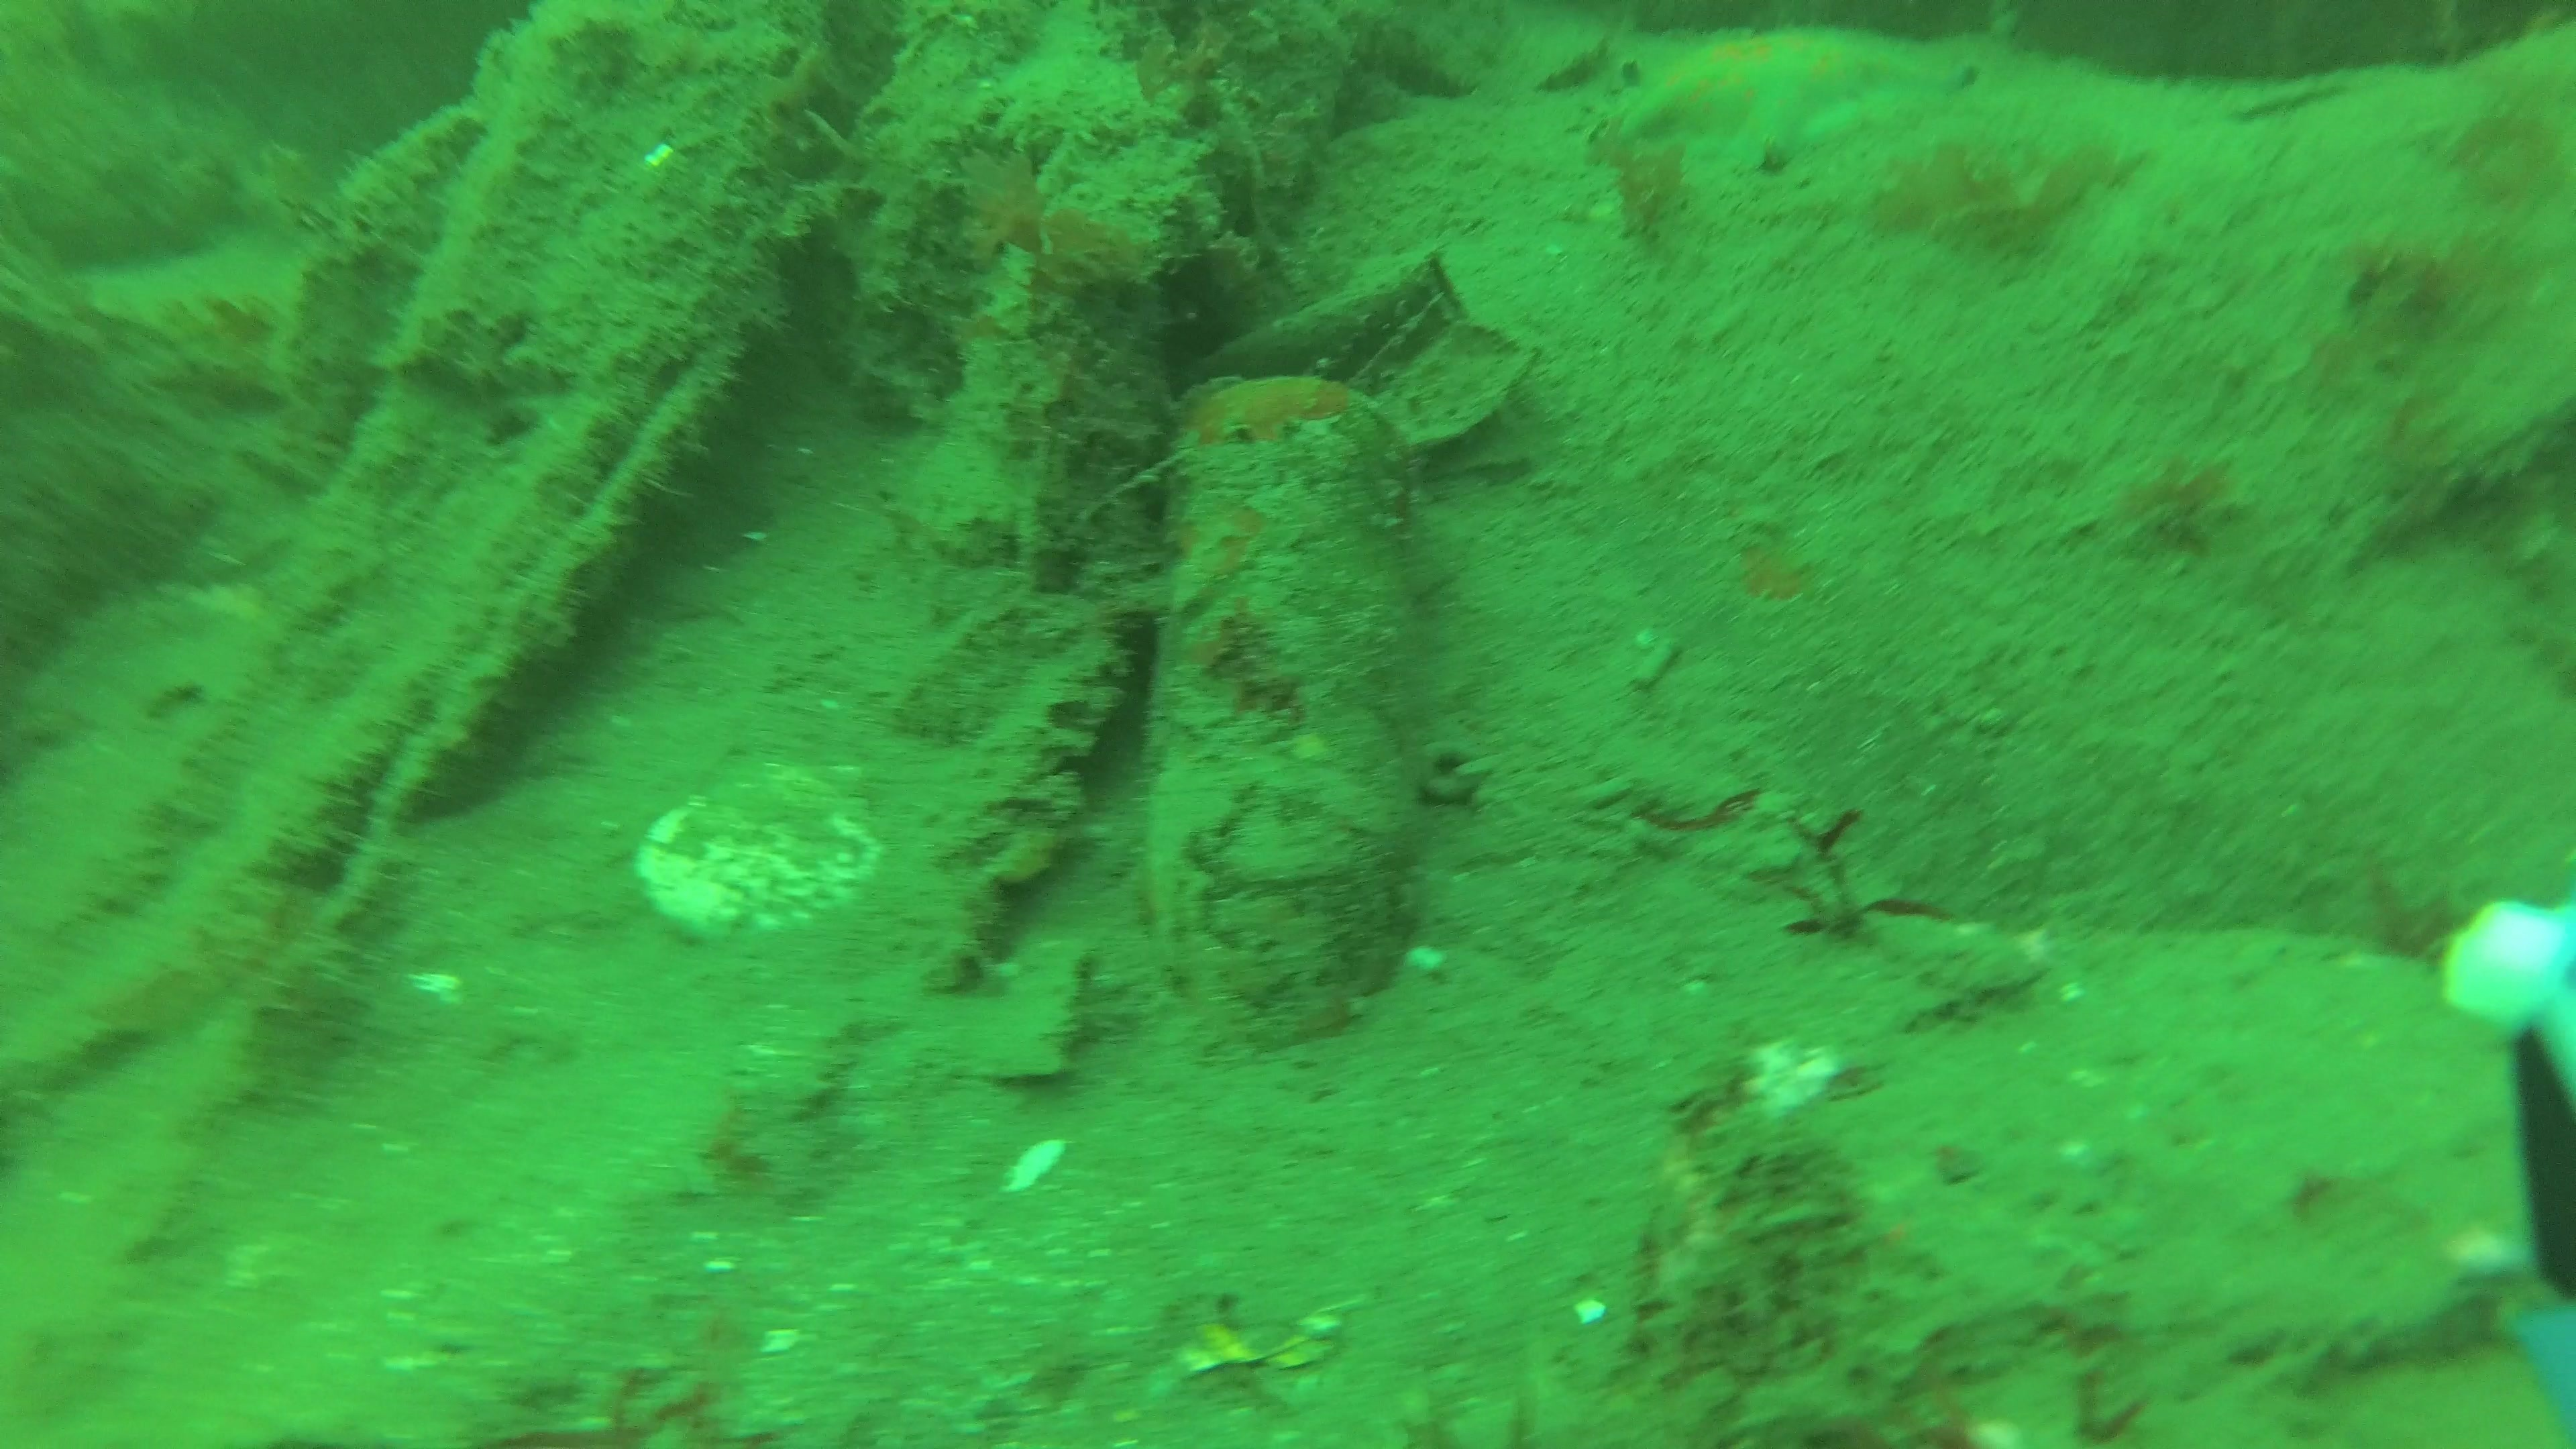scallop: (635, 761, 881, 941)
